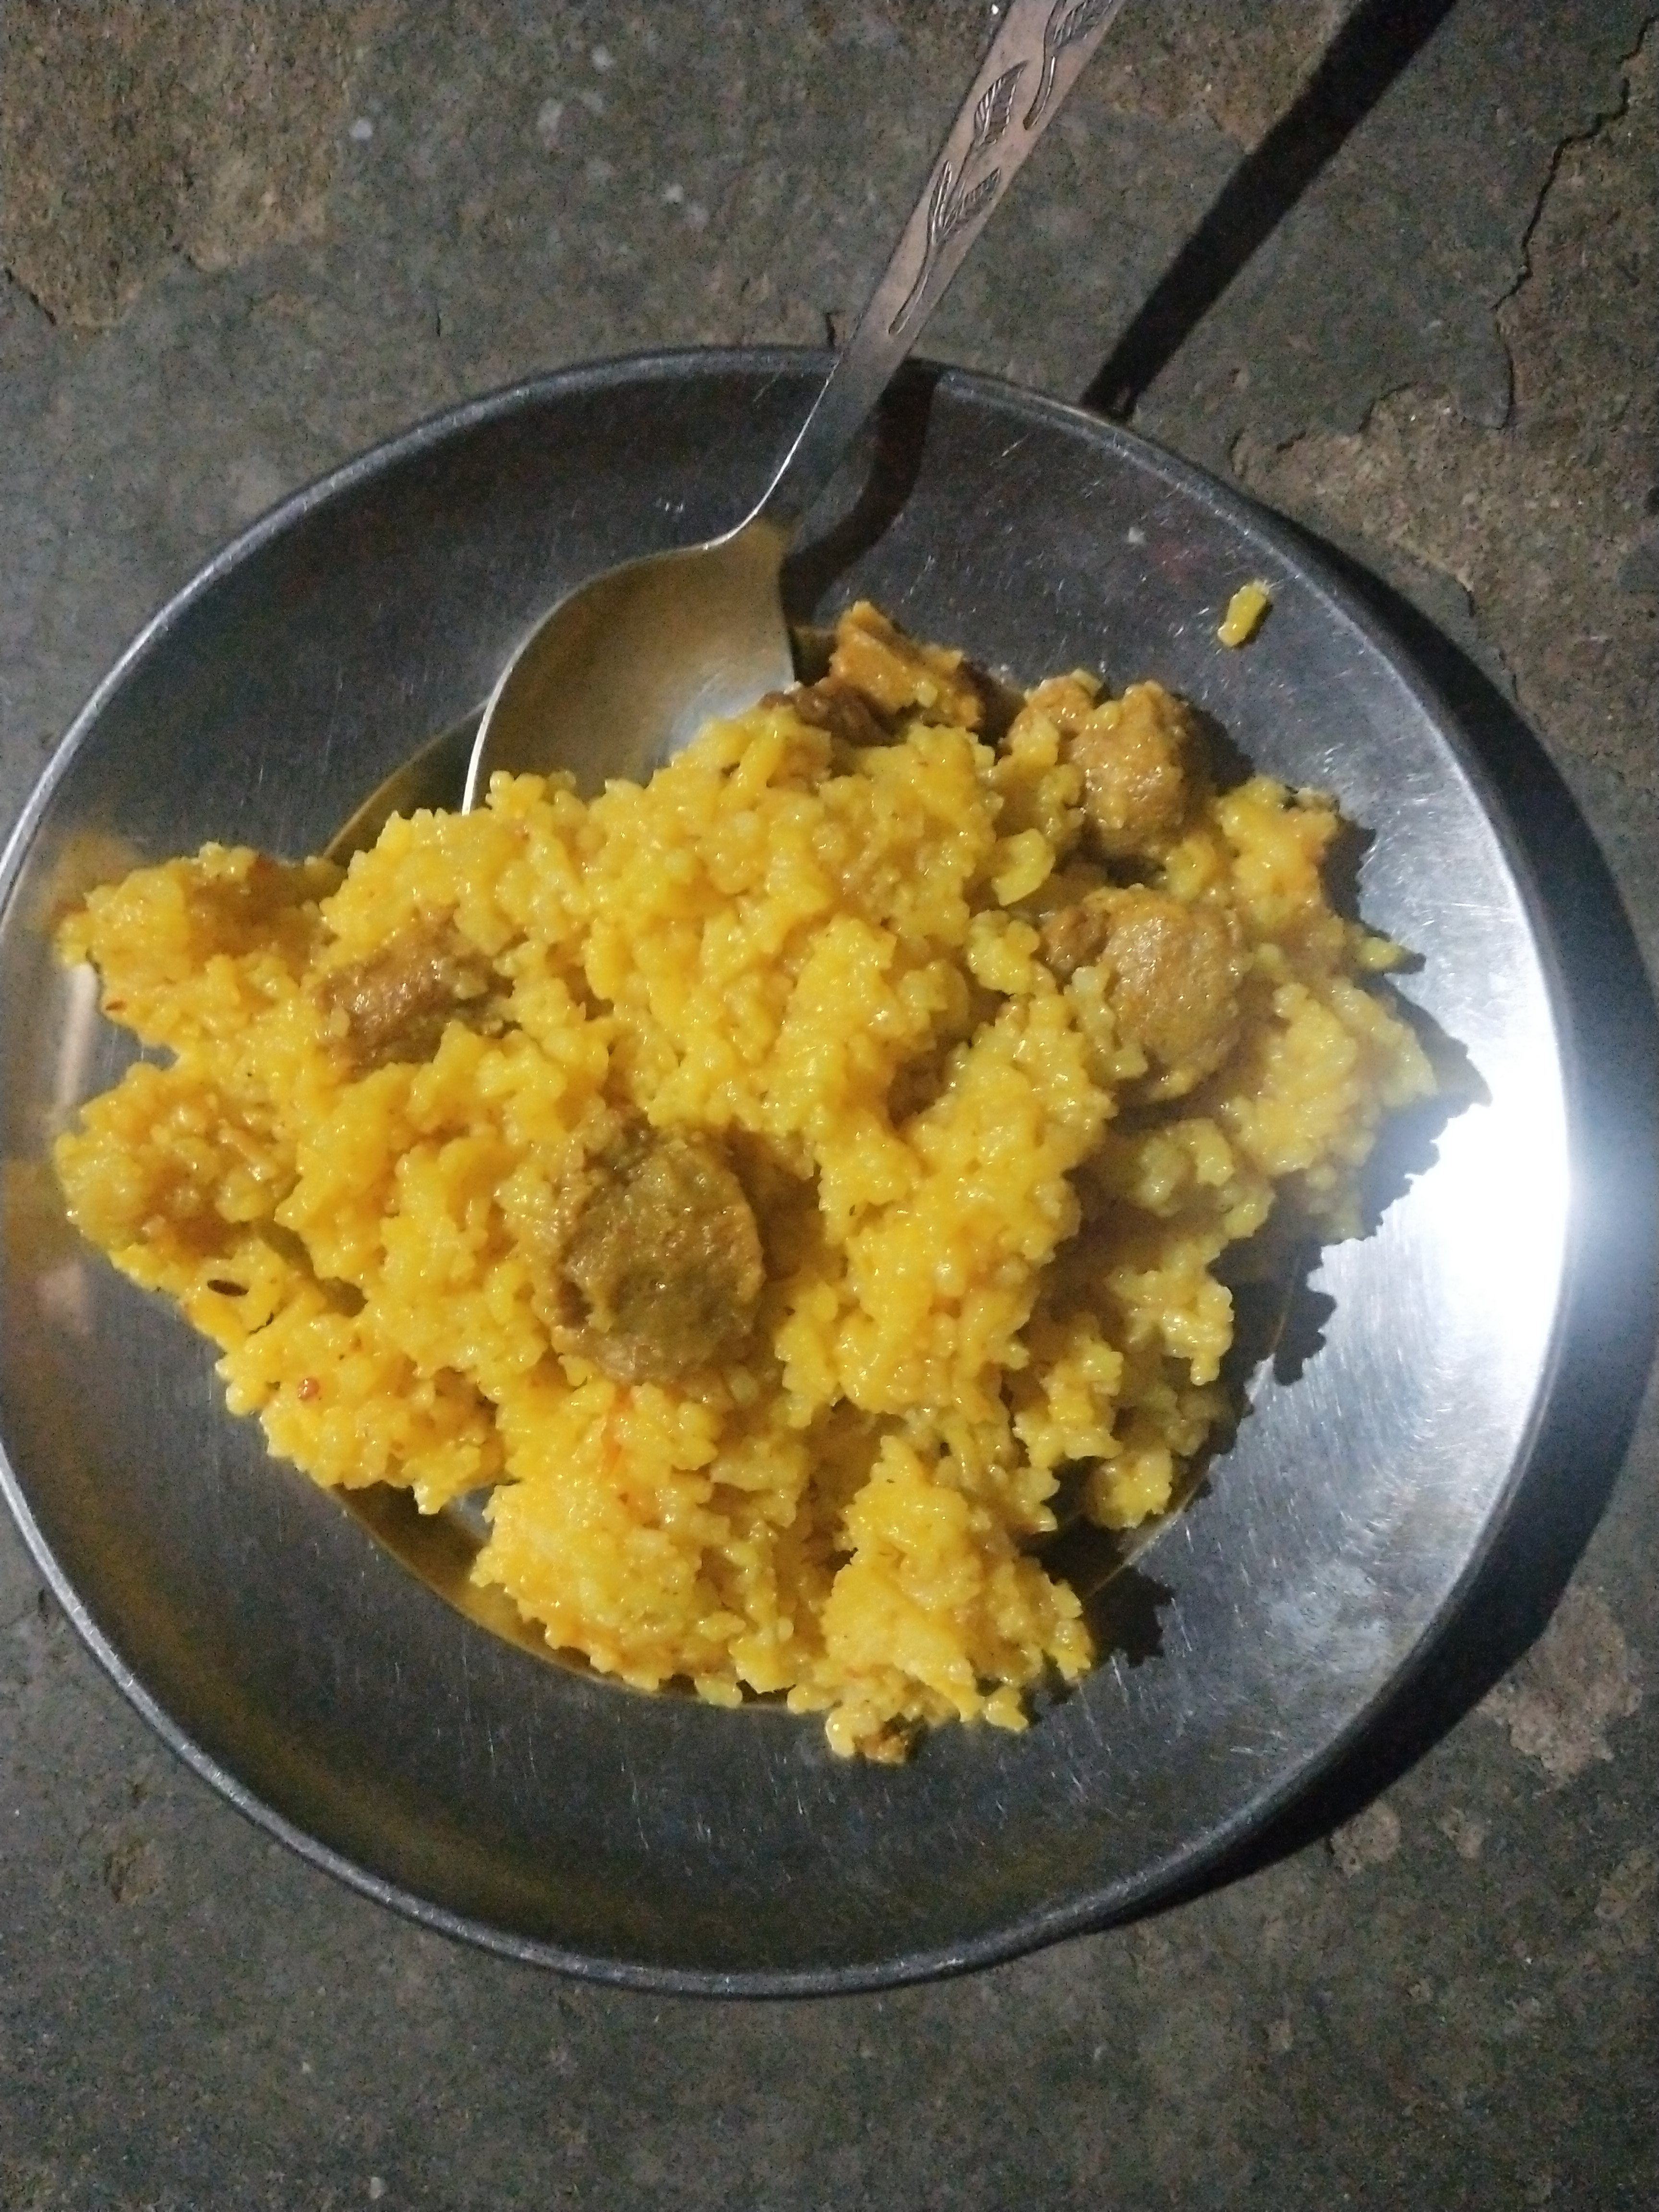food: (35, 578, 1448, 1771)
